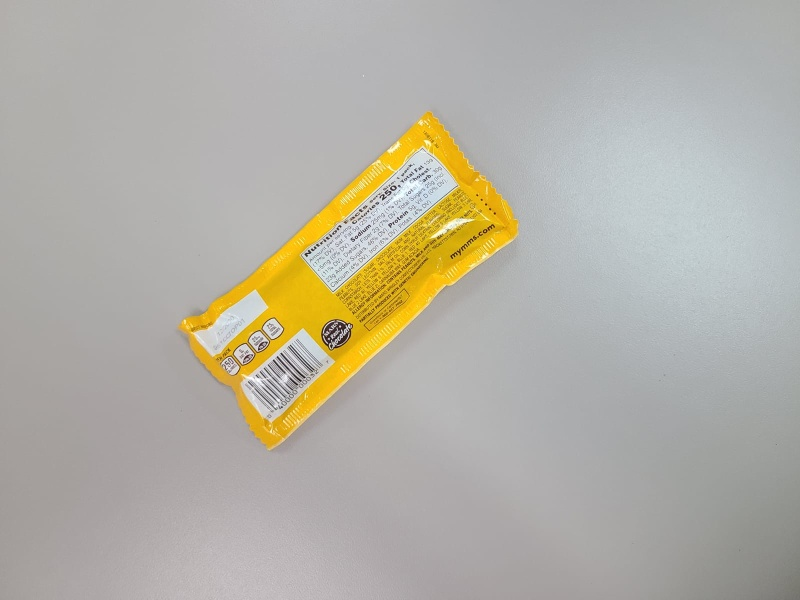m&m: (179, 113, 522, 454)
